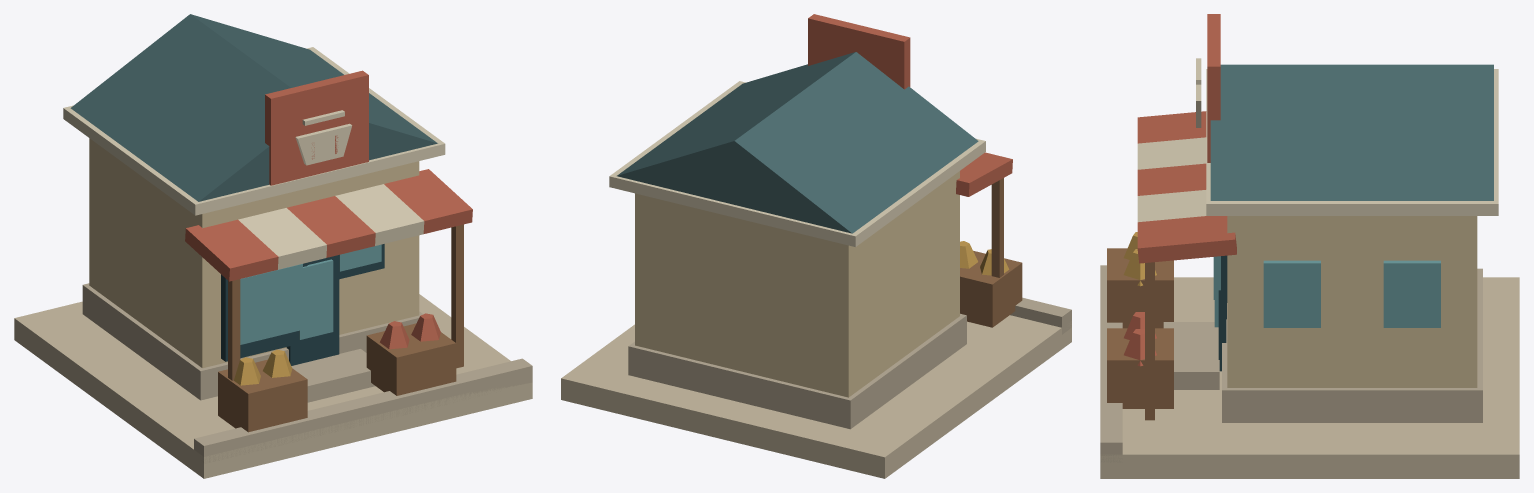
Rendered from grocery-complete.glb.
The picture shows the model from 3 angles, left to right: view 1: azimuth 30°, elevation 25°; view 2: azimuth 150°, elevation 25°; view 3: azimuth 270°, elevation 25°; orthographic projection. The views are drawn at different scales.
Visible parts, largest first — view 1: grocery; view 2: grocery; view 3: grocery.
Boxes of the visible parts, box(x1,y1,x2,y2) form: grocery: box(14, 14, 532, 478); grocery: box(561, 14, 1071, 478); grocery: box(1100, 14, 1519, 478).
Bounding box in the file's own units: 1.88 × 1.73 × 1.88.
